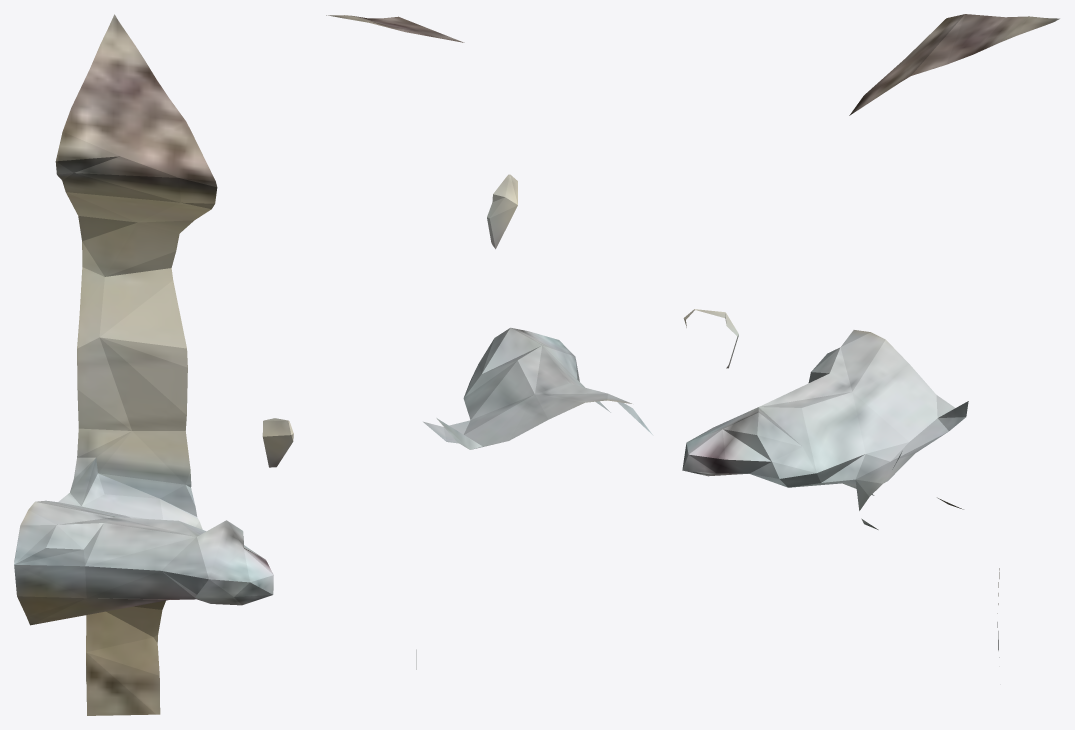
3 views of the same model, side by side, from view 1: azimuth 30°, elevation 25°; view 2: azimuth 150°, elevation 25°; view 3: azimuth 270°, elevation 25° (orthographic). The views are drawn at different scales.
Bounding box in the file's own units: 1.16 × 3.59 × 1.76.
Materials: 1 (1 with a texture image).
